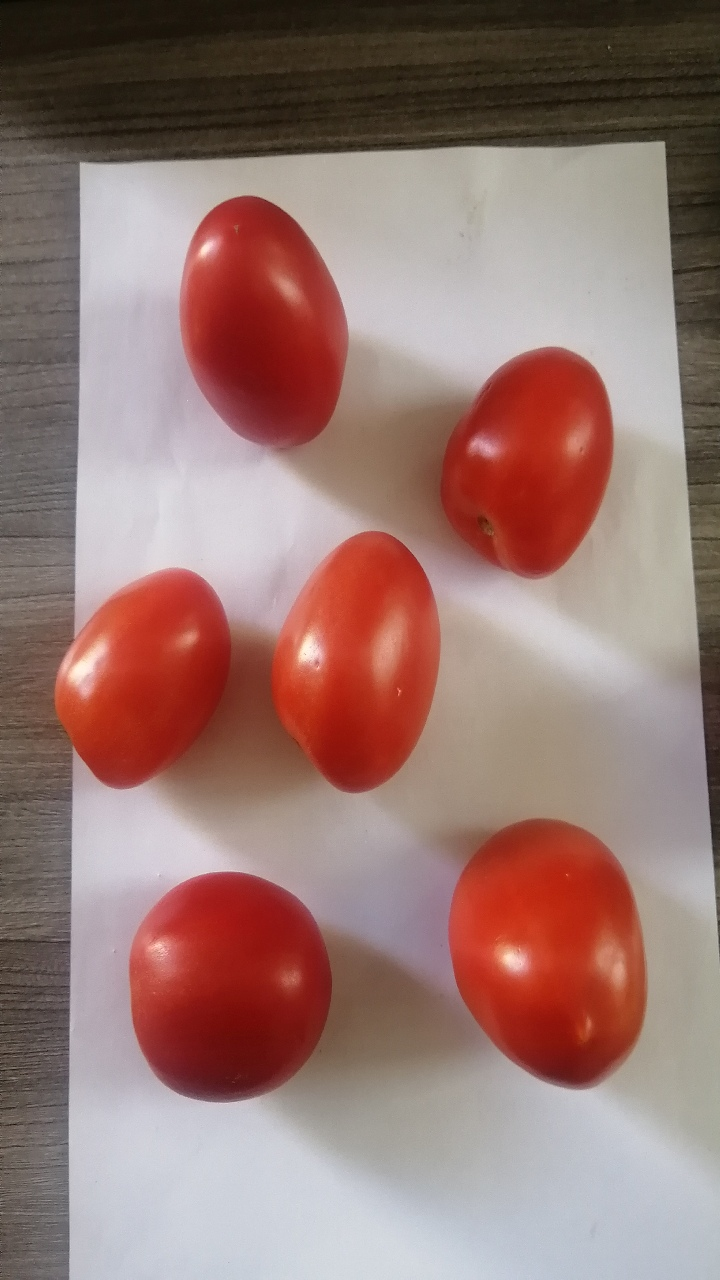tomateRojo: (108, 845, 369, 1128), (423, 803, 664, 1108), (164, 188, 400, 482), (248, 514, 452, 814), (34, 546, 257, 809), (421, 309, 620, 589)
